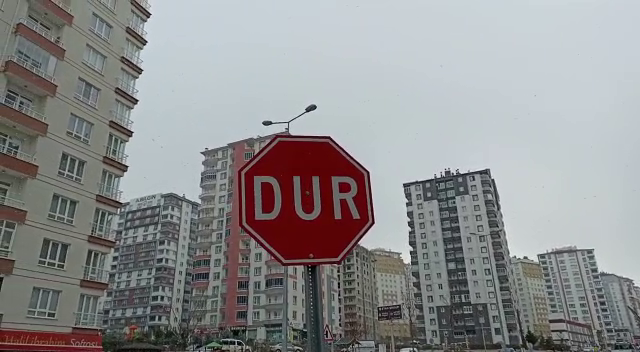stop: (234, 132, 380, 271)
